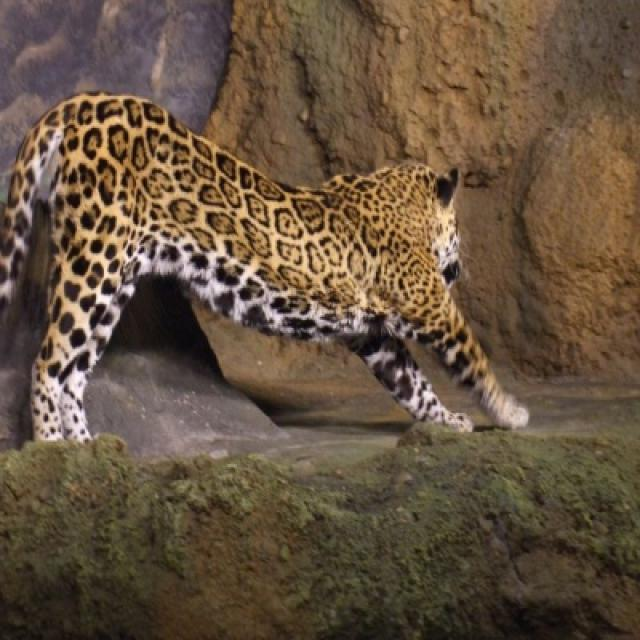Jaguar: (0, 93, 531, 451)
